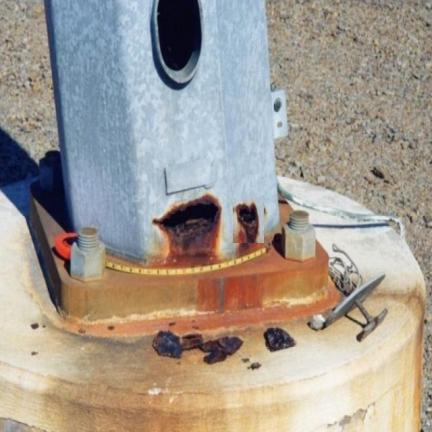karat: (154, 332, 242, 363), (263, 325, 301, 358)
